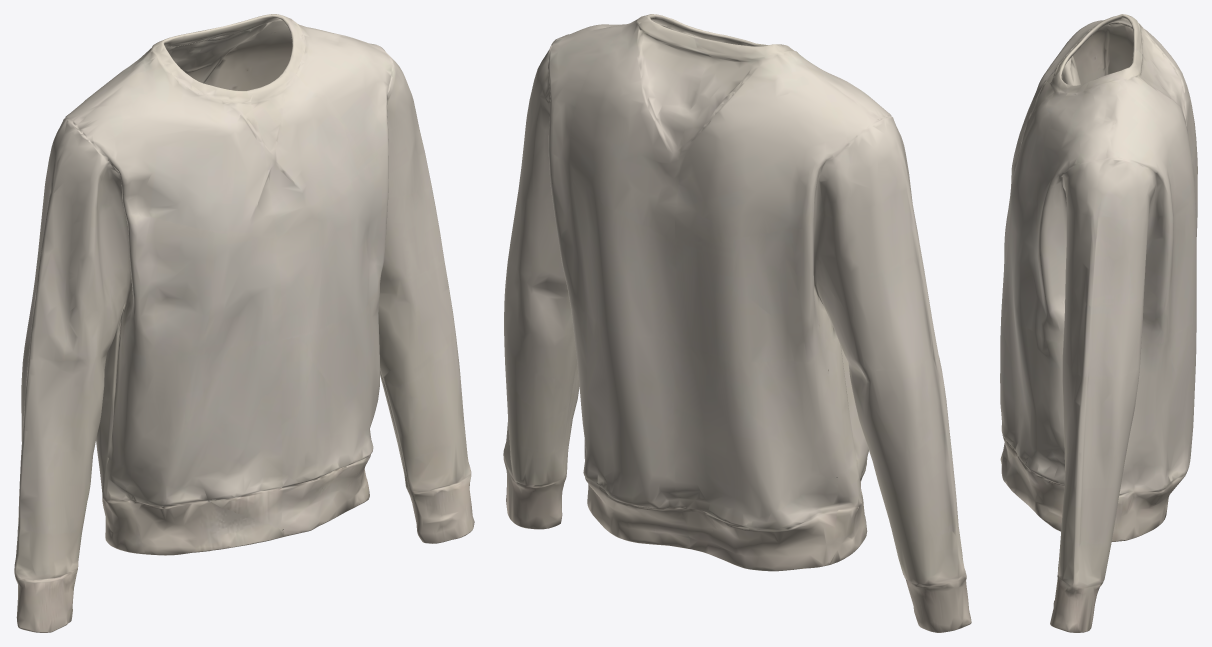
The picture shows the model from 3 angles, left to right: view 1: azimuth 30°, elevation 25°; view 2: azimuth 150°, elevation 25°; view 3: azimuth 270°, elevation 25°; orthographic projection. The views are drawn at different scales.
Visible parts, largest first — view 1: tripo_node_dae6c4c2-2b61-4e59-8ced-7d3bf9abee84; view 2: tripo_node_dae6c4c2-2b61-4e59-8ced-7d3bf9abee84; view 3: tripo_node_dae6c4c2-2b61-4e59-8ced-7d3bf9abee84.
Part boxes in pixels (x1,y1,x2,y2): tripo_node_dae6c4c2-2b61-4e59-8ced-7d3bf9abee84: [14, 14, 474, 632]; tripo_node_dae6c4c2-2b61-4e59-8ced-7d3bf9abee84: [503, 14, 971, 632]; tripo_node_dae6c4c2-2b61-4e59-8ced-7d3bf9abee84: [1000, 14, 1197, 632].
Size of the model in its own units: 0.8762 by 0.9999 by 0.3597.
Materials: 1 (1 with a texture image).
